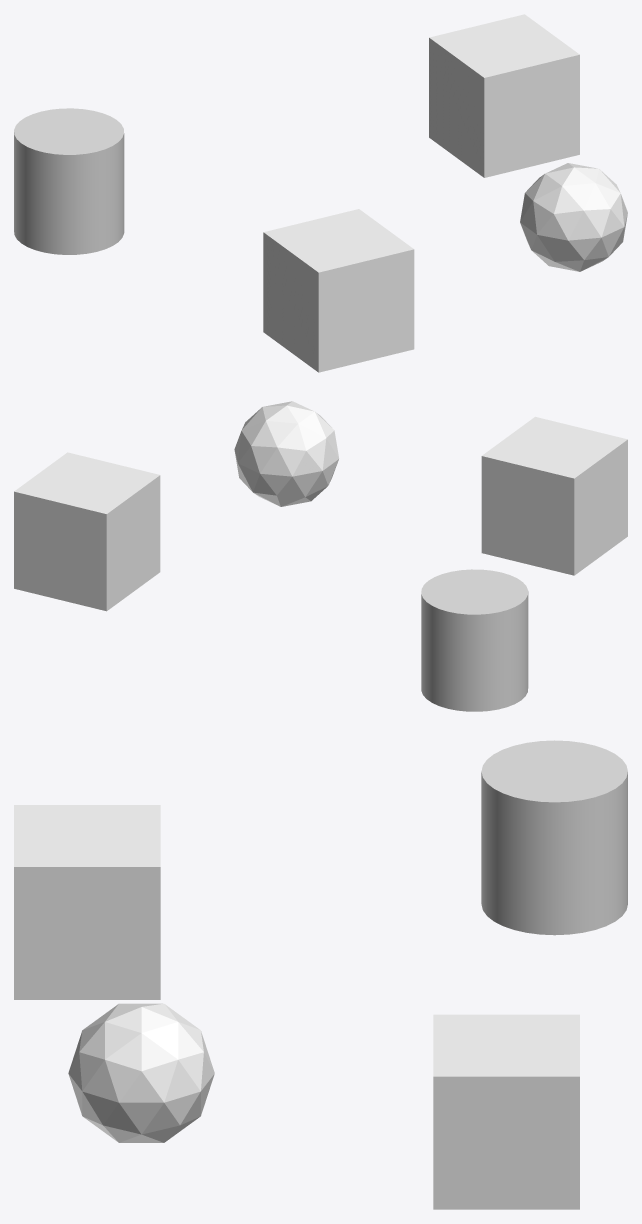
The model's file is shadow_test.glb.
3 renders of one model, top to bottom at view 1: azimuth 30°, elevation 25°; view 2: azimuth 150°, elevation 25°; view 3: azimuth 270°, elevation 25°, orthographic. The views are drawn at different scales.
Visible parts, largest first — view 1: Cube, Cube.001, Cylinder, Icosphere; view 2: Cube, Cube.001, Cylinder, Icosphere; view 3: Cube.001, Cube, Cylinder, Icosphere.
Boxes of the visible parts, x1=… form: Cube: x1=263, y1=209, x2=414, y2=372; Cube.001: x1=429, y1=14, x2=579, y2=177; Cylinder: x1=14, y1=108, x2=124, y2=254; Icosphere: x1=520, y1=163, x2=627, y2=271; Cube: x1=481, y1=416, x2=627, y2=575; Cube.001: x1=14, y1=452, x2=160, y2=611; Cylinder: x1=421, y1=569, x2=528, y2=711; Icosphere: x1=234, y1=401, x2=339, y2=506; Cube.001: x1=433, y1=1014, x2=579, y2=1209; Cube: x1=14, y1=805, x2=160, y2=999; Cylinder: x1=481, y1=740, x2=627, y2=935; Icosphere: x1=68, y1=1003, x2=214, y2=1142.
Size of what is drawn, in the model's own units: 10.73 by 2.14 by 8.38.
1 material, 1 textured.
